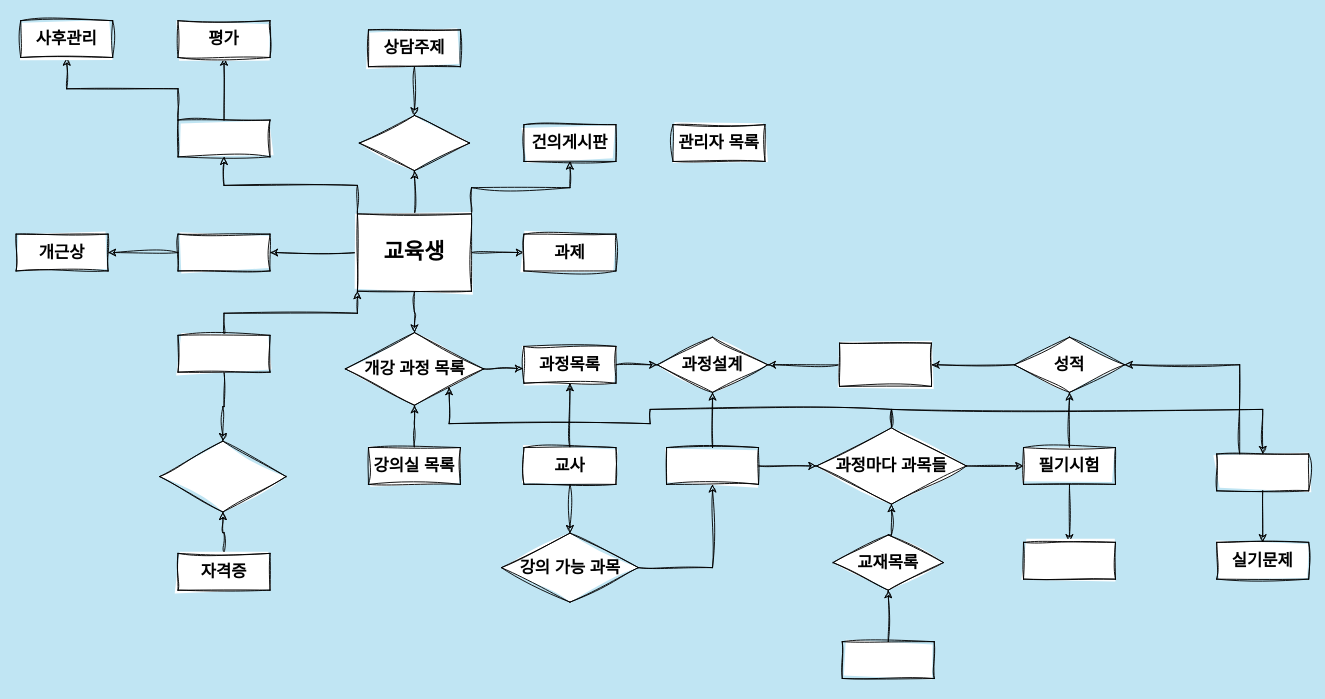
Image size: 1325x699. Some labels were removed from this diagram. Each missing label, with the centre of its shape:
"과목목록" goes at (x=712, y=465).
"교재" goes at (x=887, y=659).
"사람" goes at (x=223, y=353).
"상담일지" goes at (x=414, y=143).
"성적 우수 장려금" goes at (x=885, y=364).
"수료학생" goes at (x=223, y=138).
"실기시험" goes at (x=1262, y=472).
"자격증 목록" goes at (x=222, y=476).
"출결" goes at (x=223, y=252).
"필기문제" goes at (x=1069, y=560).
